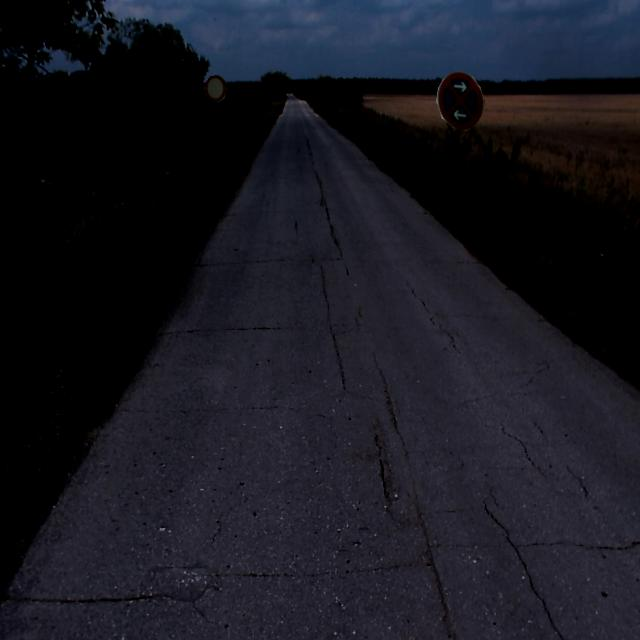road: (0, 101, 639, 639)
